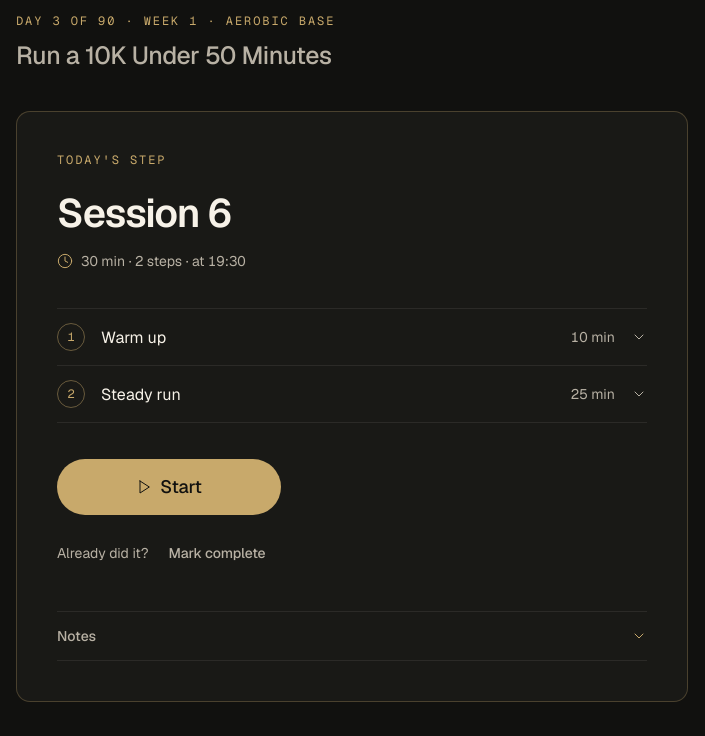
Test: Today › displays week completion bridge when the final practice task of the week is completed
Click the button "Mark complete" at (217, 554), box [153, 532, 282, 576]
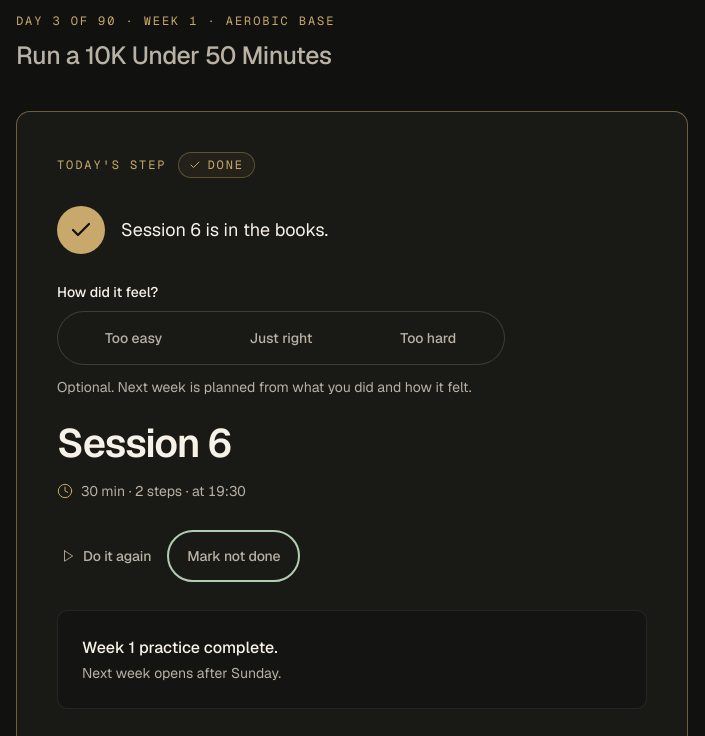
Expected: the text "Week 1 practice complete." is shown, [82, 638, 278, 658]
Expected: the text "Next week opens after Sunday." is shown, [82, 664, 281, 682]
